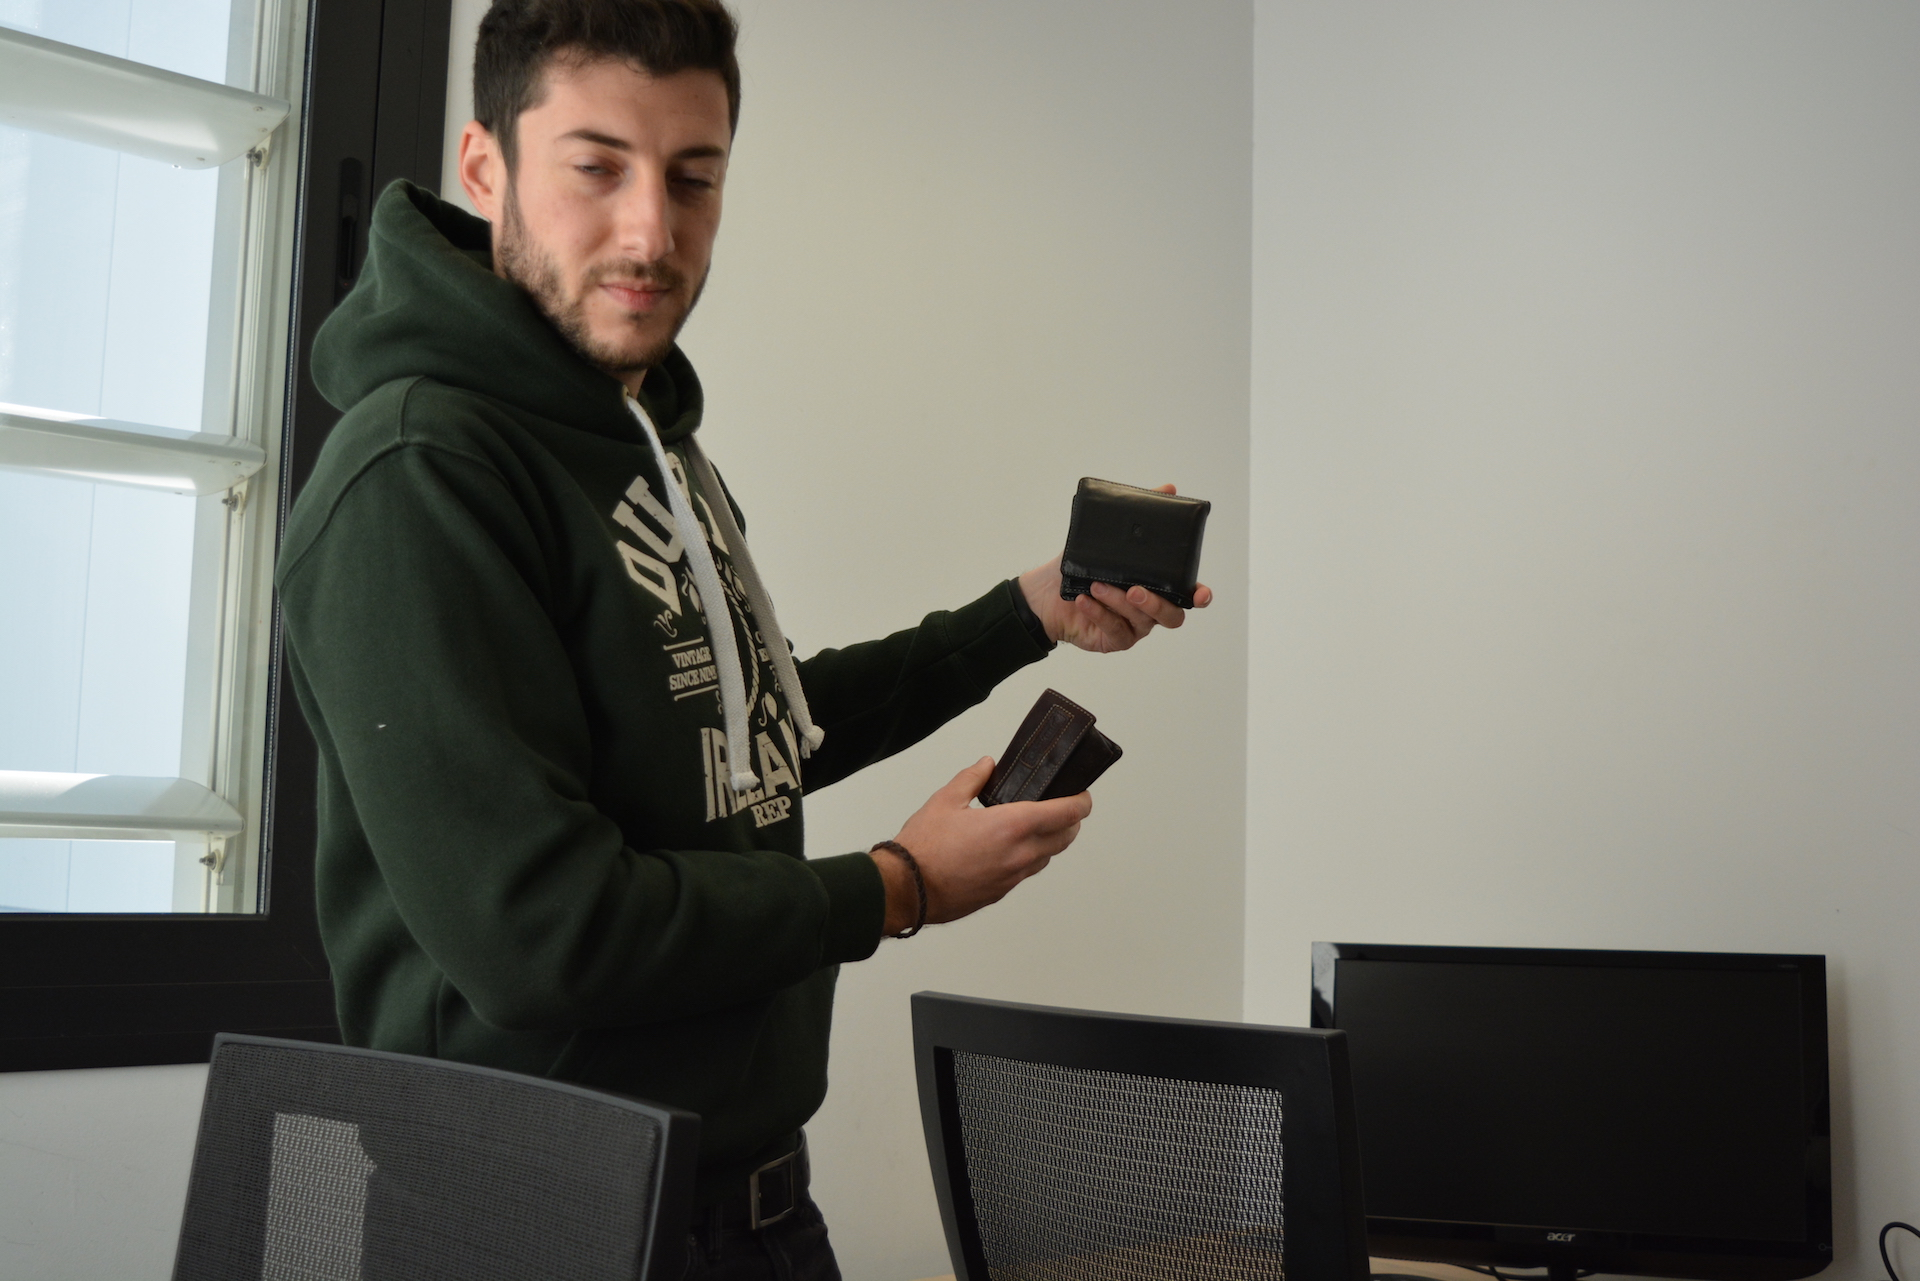monedero: (1058, 475, 1212, 613), (976, 688, 1124, 812)
